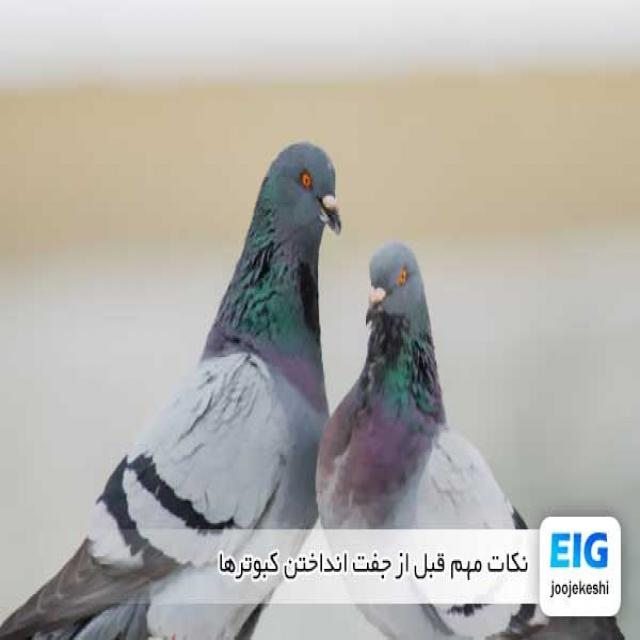bird: (0, 129, 343, 640), (316, 241, 527, 526)
